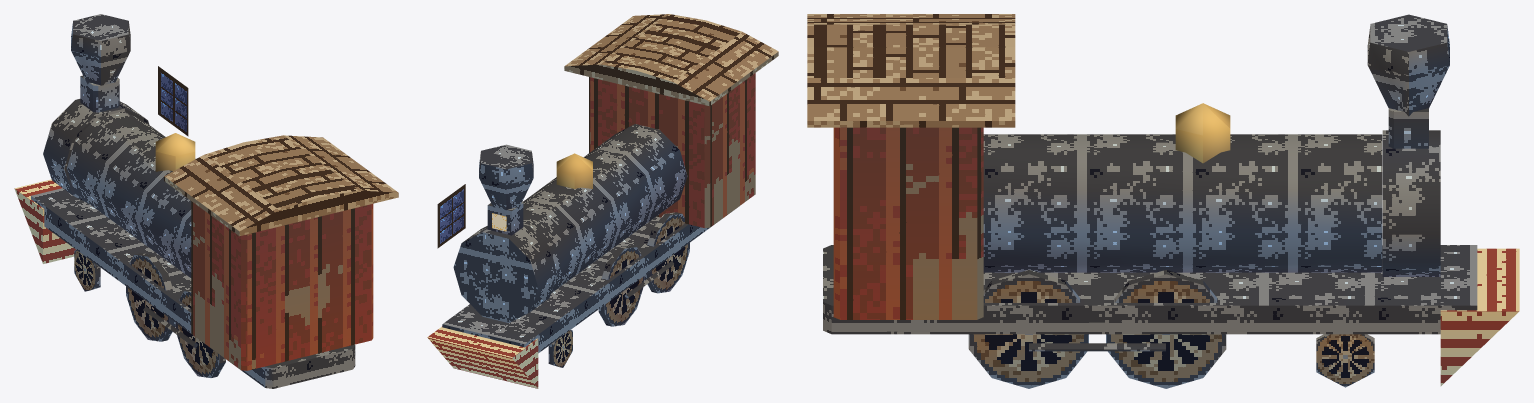
The model's file is wrail.locomotive.glb.
3 renders of one model, left to right at view 1: azimuth 30°, elevation 25°; view 2: azimuth 150°, elevation 25°; view 3: azimuth 270°, elevation 25°, orthographic. The views are drawn at different scales.
Visible parts, largest first — view 1: kit_cab, kit_cab_roof, kit_boiler, kit_frame, kit_drivers, kit_stack, kit_smokebox, kit_pilot, kit_card_panes, kit_domes, kit_lamp, kit_leaders (+1 smaller); view 2: kit_boiler, kit_cab, kit_cab_roof, kit_frame, kit_smokebox, kit_pilot, kit_drivers, kit_stack, kit_card_panes, kit_domes, kit_lamp, kit_leaders; view 3: kit_boiler, kit_frame, kit_cab, kit_cab_roof, kit_drivers, kit_smokebox, kit_stack, kit_pilot, kit_leaders, kit_domes, kit_lamp, kit_rods.
Part boxes in pixels (x1,y1,x2,y2): kit_cab: (191, 201, 373, 370); kit_cab_roof: (164, 135, 398, 236); kit_boiler: (67, 111, 195, 277); kit_frame: (31, 188, 355, 388); kit_drivers: (126, 253, 225, 377); kit_stack: (71, 14, 130, 85); kit_smokebox: (43, 99, 149, 203); kit_pilot: (14, 179, 75, 263); kit_card_panes: (158, 66, 188, 136); kit_domes: (155, 133, 195, 171); kit_lamp: (80, 75, 119, 112); kit_leaders: (74, 250, 100, 291); kit_boiler: (523, 124, 687, 293); kit_cab: (589, 73, 755, 228); kit_cab_roof: (564, 14, 778, 106); kit_frame: (442, 215, 726, 353); kit_smokebox: (453, 223, 557, 322); kit_pilot: (427, 326, 538, 388); kit_drivers: (598, 212, 689, 326); kit_stack: (479, 144, 533, 210); kit_card_panes: (437, 184, 465, 248); kit_domes: (556, 153, 592, 188); kit_lamp: (487, 201, 523, 235); kit_leaders: (548, 330, 572, 367); kit_boiler: (983, 134, 1382, 272); kit_frame: (823, 245, 1477, 334); kit_cab: (833, 127, 983, 319); kit_cab_roof: (807, 14, 1015, 127); kit_drivers: (968, 270, 1226, 388); kit_smokebox: (1382, 130, 1440, 276); kit_stack: (1367, 14, 1449, 116); kit_pilot: (1440, 248, 1519, 386); kit_leaders: (1316, 334, 1374, 387); kit_domes: (1175, 103, 1230, 163); kit_lamp: (1388, 108, 1428, 148); kit_rods: (1029, 343, 1165, 351).
Bounding box in the file's own units: 2.4 × 3.43 × 6.75.
8 materials, 7 textured.
